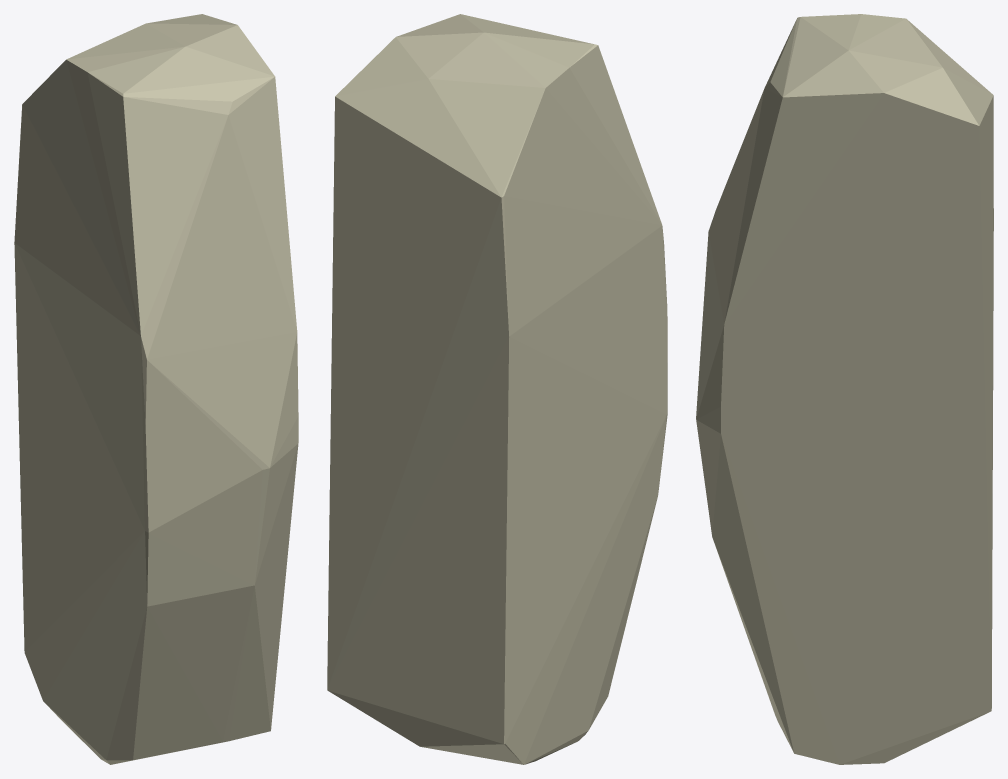
The model's file is interiorPart_dashboard_c01.glb.
3 renders of one model, left to right at view 1: azimuth 30°, elevation 25°; view 2: azimuth 150°, elevation 25°; view 3: azimuth 270°, elevation 25°, orthographic.
Parts seen in each view (by area): view 1: geometry_0; view 2: geometry_0; view 3: geometry_0.
Boxes of the visible parts, x1,y1,x2,y2 form: geometry_0: (14, 14, 298, 764); geometry_0: (327, 14, 667, 764); geometry_0: (696, 14, 993, 764).
Size of the model in its own units: 0.1419 by 0.4769 by 0.1882.
